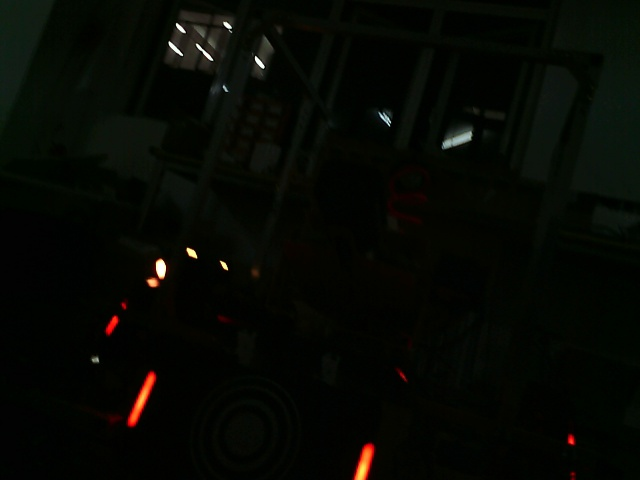lamp: (124, 367, 158, 427)
